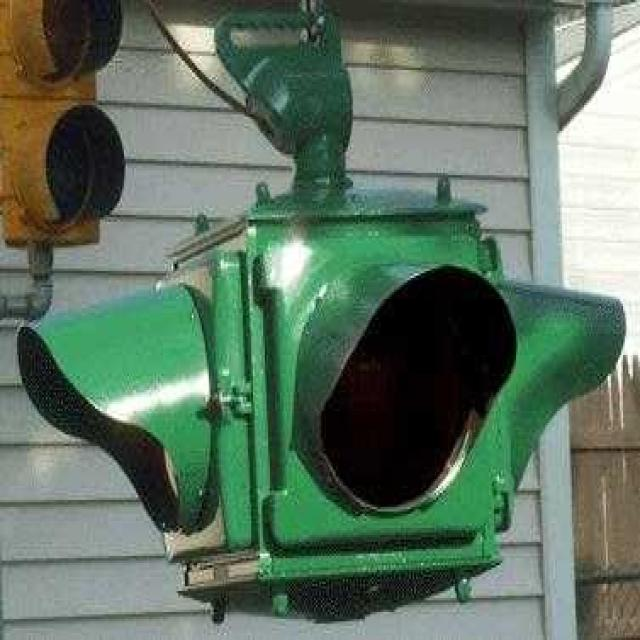Traffic Light -Off-: (253, 220, 521, 546), (25, 112, 132, 246)
